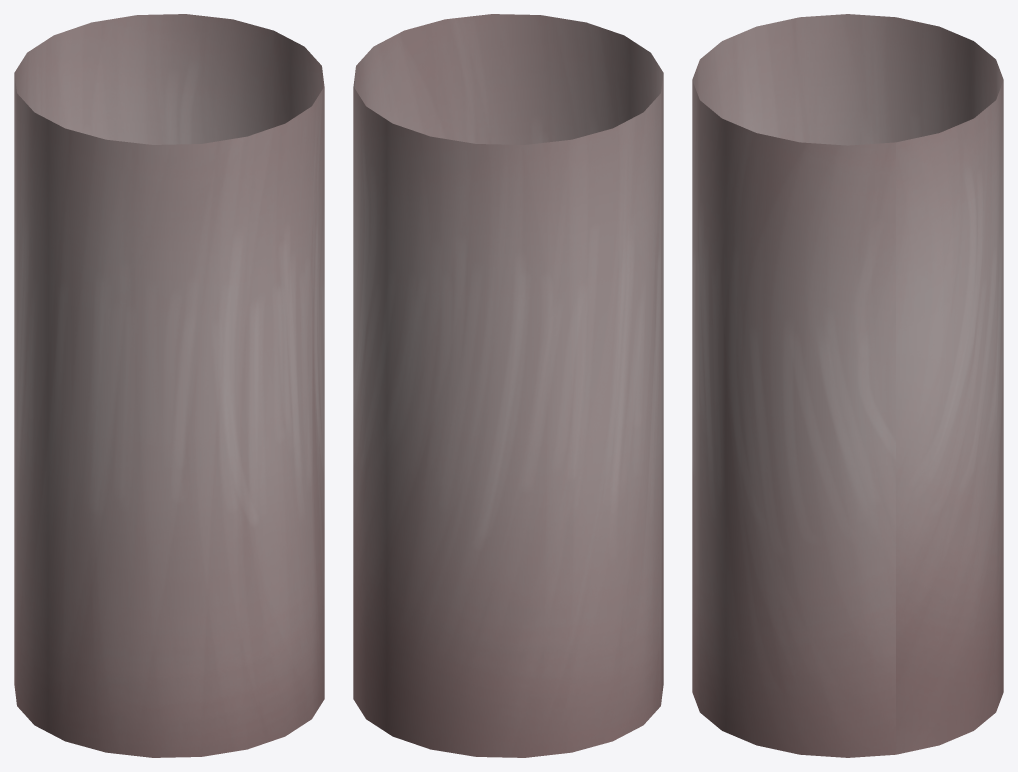
File: dropy mushrome bounce stem.fbx
3 renders of one model, left to right at view 1: azimuth 30°, elevation 25°; view 2: azimuth 150°, elevation 25°; view 3: azimuth 270°, elevation 25°, orthographic.
Parts seen in each view (by area): view 1: pCylinder21; view 2: pCylinder21; view 3: pCylinder21.
Boxes of the visible parts, <box> form: pCylinder21: <box>14,14,324,757</box>; pCylinder21: <box>353,14,663,757</box>; pCylinder21: <box>692,14,1003,757</box>.
Bounding box in the file's own units: 200 × 434 × 200.
